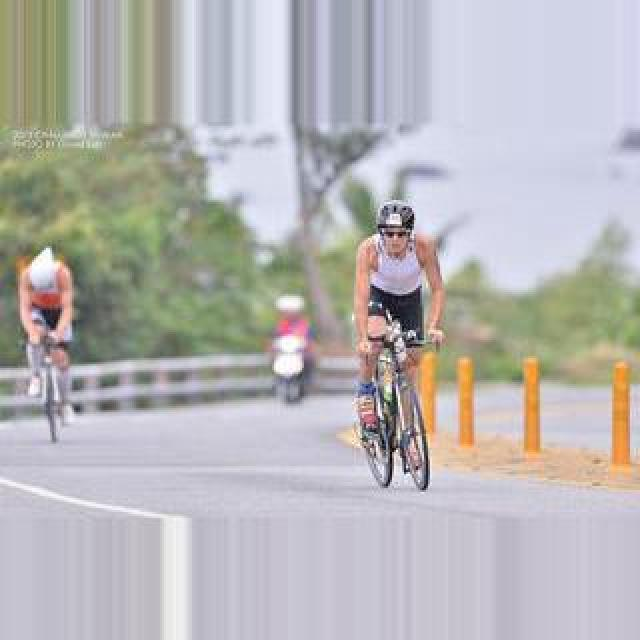MC-Bike: (350, 204, 448, 448), (16, 248, 76, 430)
Person: (356, 326, 438, 492), (24, 342, 78, 444)
